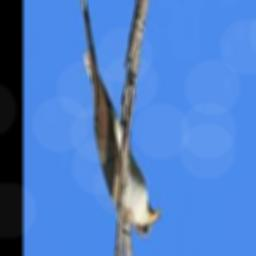Cuckoo: (76, 0, 161, 240)
